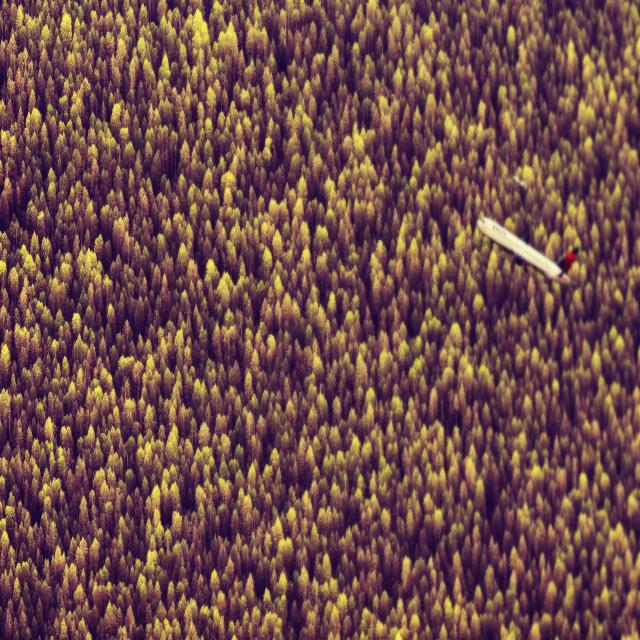airplane: (476, 215, 579, 286)
